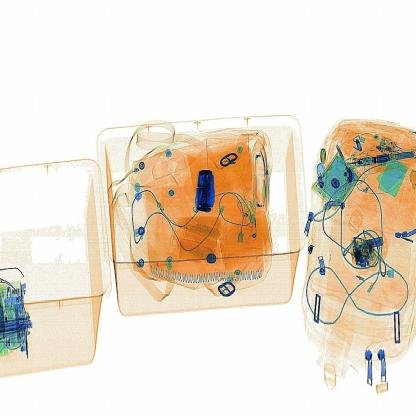scissors: (190, 164, 224, 209)
